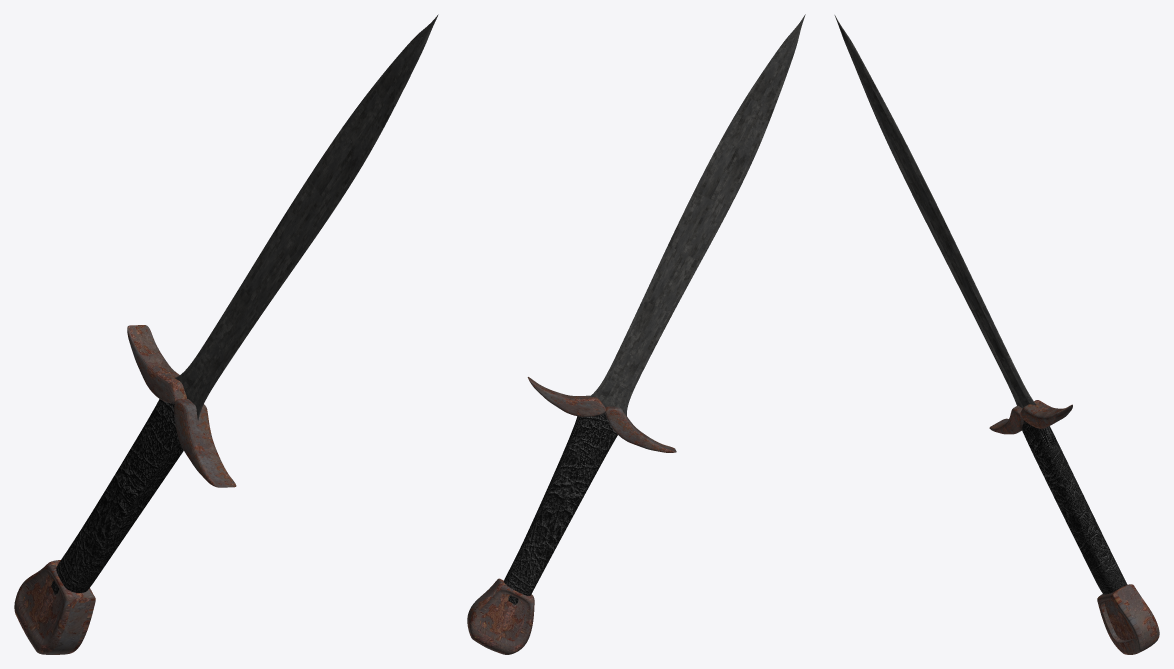
Rendered from Sword.obj.
3 renders of one model, left to right at view 1: azimuth 90°, elevation 25°; view 2: azimuth 150°, elevation 25°; view 3: azimuth 270°, elevation 25°, orthographic. The views are drawn at different scales.
Parts seen in each view (by area): view 1: blade_Plane.006, Sword_cord_Plane.004, detail_1_Plane.003, detail_2_Cube.001; view 2: blade_Plane.006, Sword_cord_Plane.004, detail_2_Cube.001, detail_1_Plane.003; view 3: blade_Plane.006, Sword_cord_Plane.004, detail_2_Cube.001, detail_1_Plane.003.
Part boxes in pixels (<box>): blade_Plane.006: <box>174,14,438,420</box>; Sword_cord_Plane.004: <box>51,399,183,594</box>; detail_1_Plane.003: <box>127,325,236,487</box>; detail_2_Cube.001: <box>14,560,95,654</box>; blade_Plane.006: <box>588,14,805,416</box>; Sword_cord_Plane.004: <box>503,412,617,604</box>; detail_2_Cube.001: <box>467,578,534,654</box>; detail_1_Plane.003: <box>527,377,676,452</box>; blade_Plane.006: <box>834,15,1036,408</box>; Sword_cord_Plane.004: <box>1021,420,1127,594</box>; detail_2_Cube.001: <box>1097,584,1159,654</box>; detail_1_Plane.003: <box>989,400,1072,434</box>.
Bounding box in the file's own units: 0.6881 × 2.02 × 1.05.
Materials: 3 (3 with a texture image).
